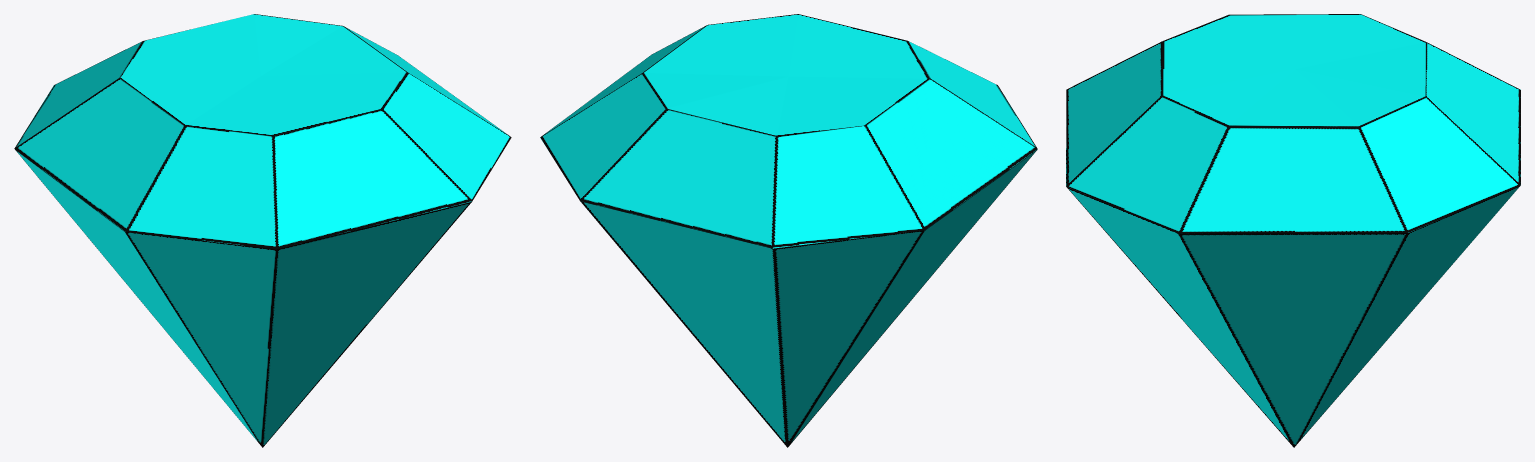
The model's file is diamond.obj.
3 renders of one model, left to right at view 1: azimuth 30°, elevation 25°; view 2: azimuth 150°, elevation 25°; view 3: azimuth 270°, elevation 25°, orthographic.
Parts seen in each view (by area): view 1: Diamond_Plane; view 2: Diamond_Plane; view 3: Diamond_Plane.
Boxes of the visible parts, bbox=[...] form: Diamond_Plane: bbox=[14, 14, 511, 447]; Diamond_Plane: bbox=[540, 14, 1037, 447]; Diamond_Plane: bbox=[1066, 14, 1520, 447].
Bounding box in the file's own units: 0.3984 × 0.3675 × 0.3996.
